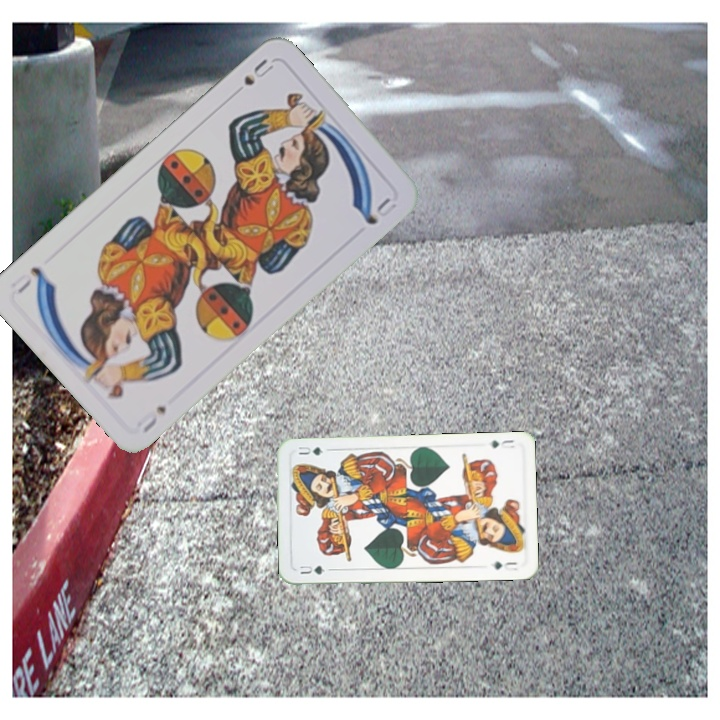GU: (296, 561, 327, 577), (484, 436, 517, 451)
SU: (132, 401, 169, 436), (239, 54, 277, 88)
